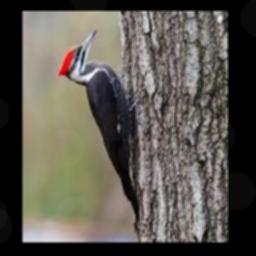Woodpecker: (57, 28, 143, 230)
